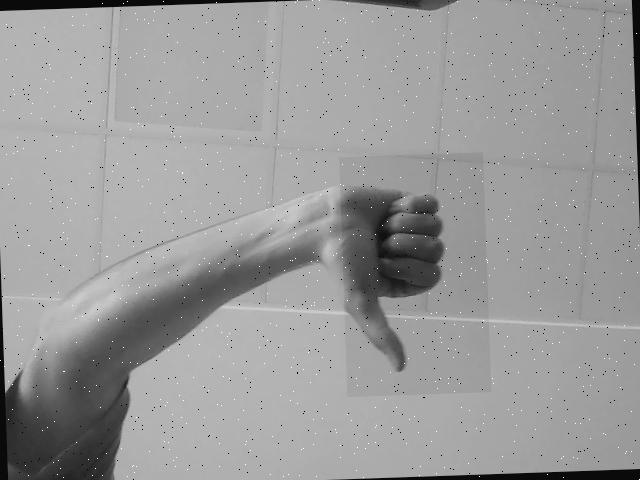bad: (339, 153, 492, 396)
